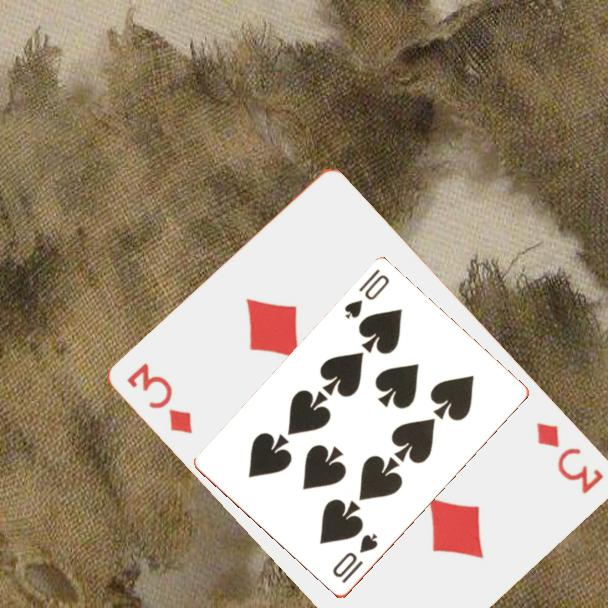d03: (532, 418, 606, 497), (122, 359, 195, 437)
s10: (329, 530, 381, 587), (341, 266, 392, 322)
